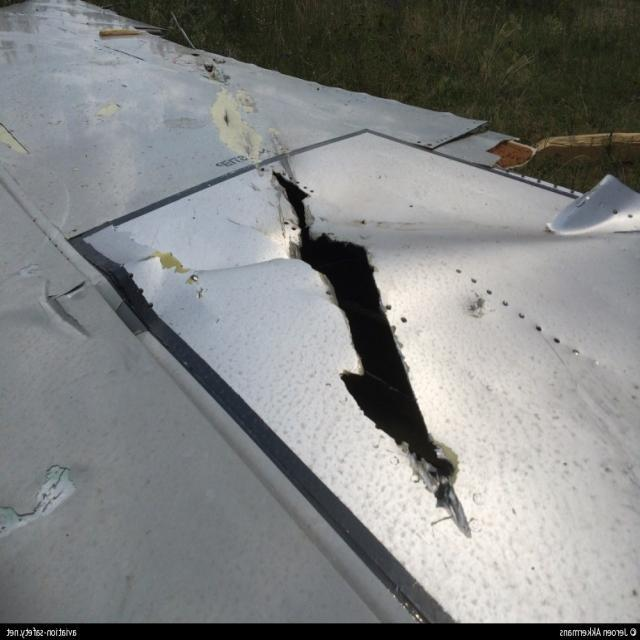crack: (271, 167, 472, 537), (222, 107, 232, 135)
